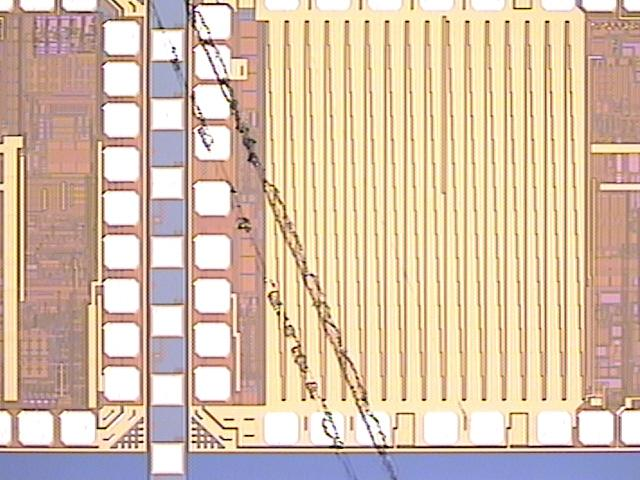SCRATCH: (133, 1, 405, 480)
